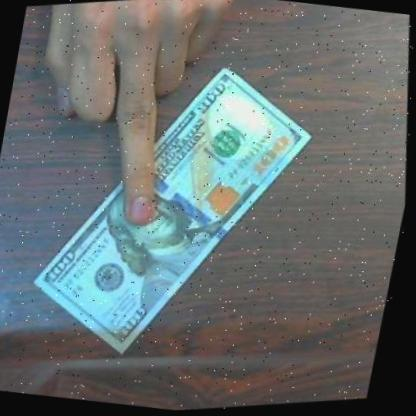one_hundred-front: (0, 18, 366, 400)
